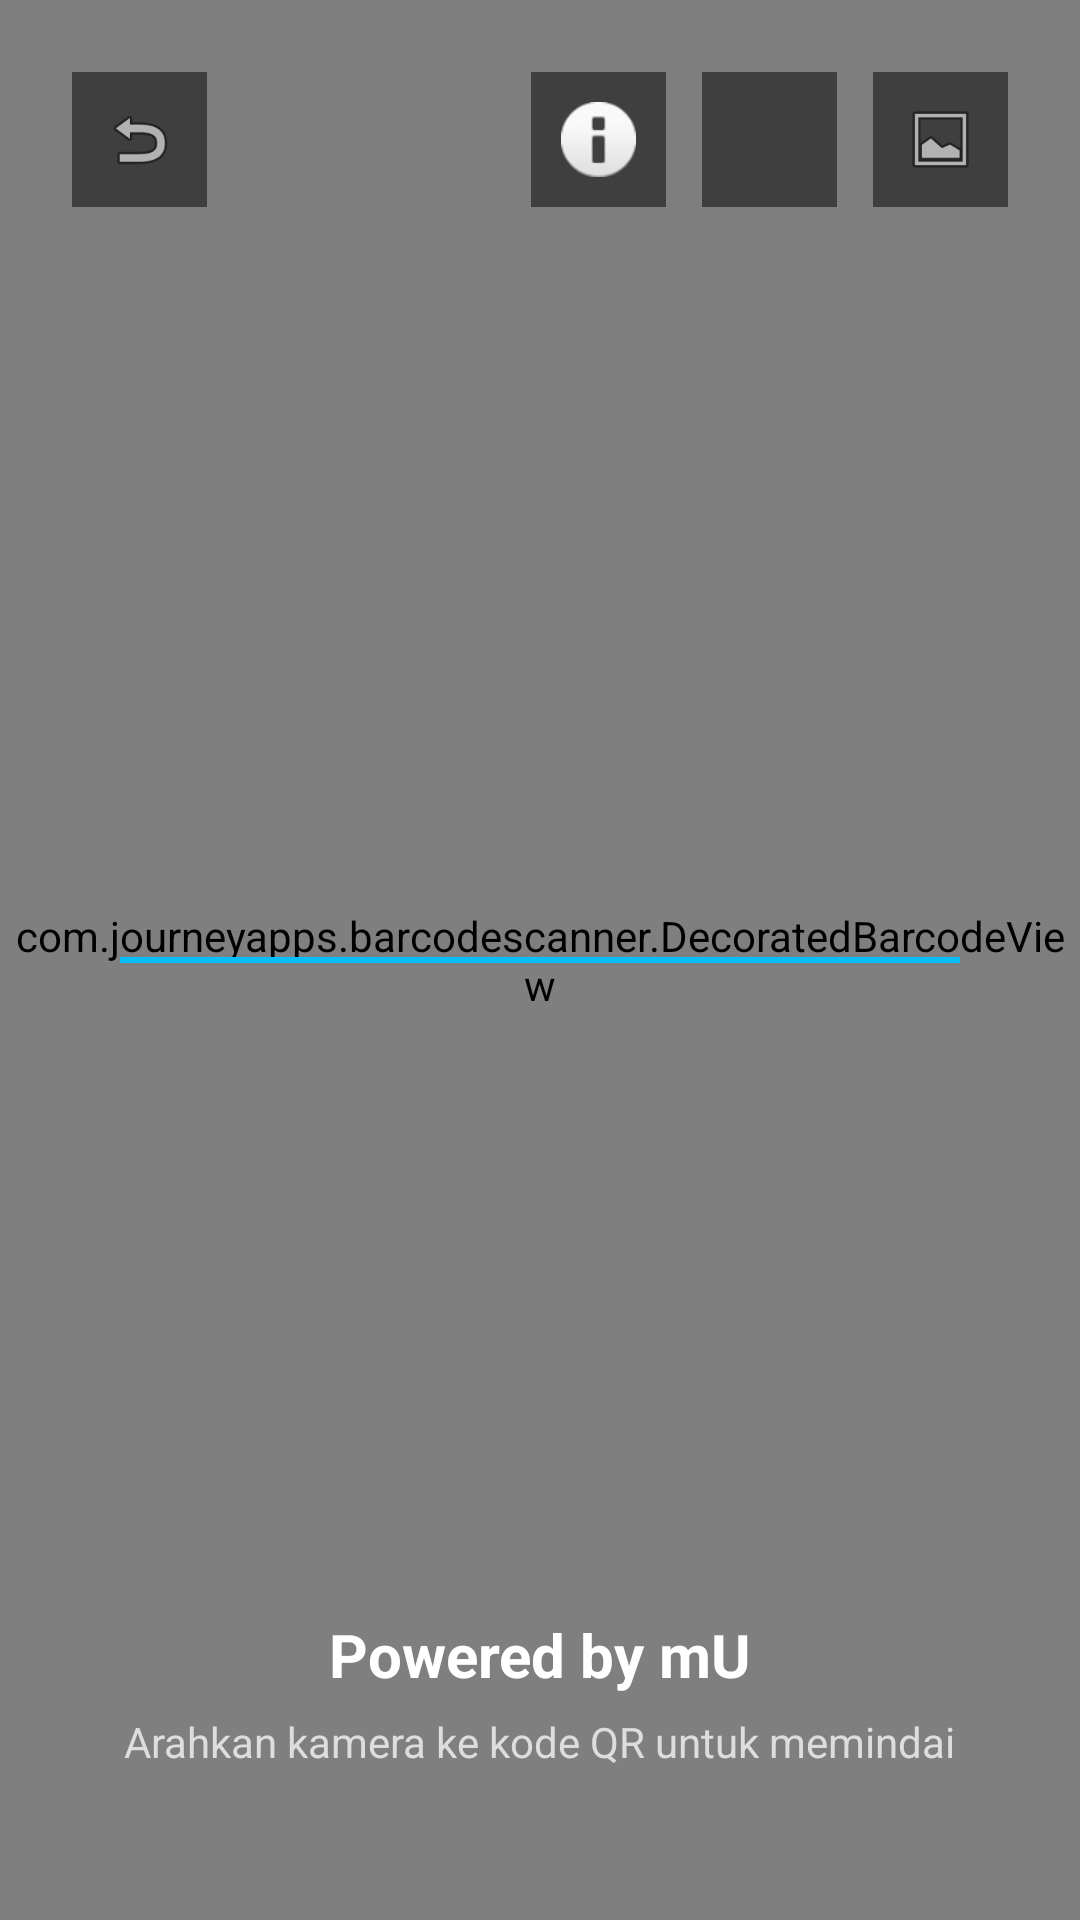

Icon bounding boxes for this 1080 x 1920 phone screenshot, format (x1, y1, x2, y2):
gallery: (873, 72, 1008, 207)
info: (531, 72, 666, 207)
revert: (72, 72, 207, 207)
